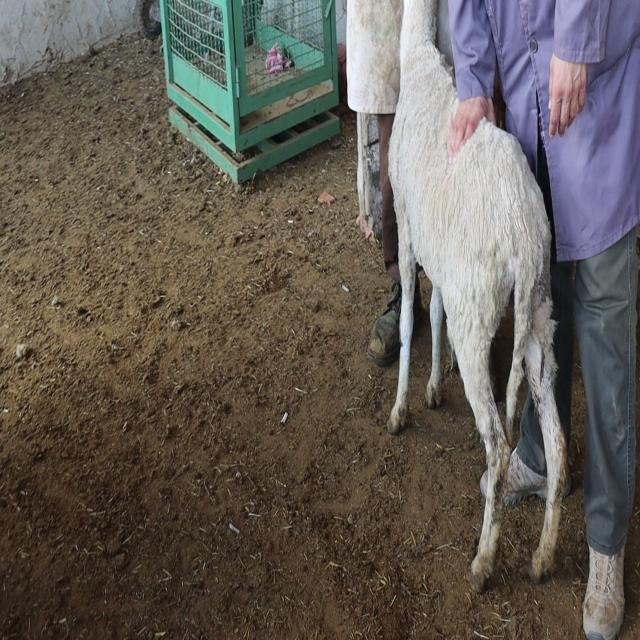Score_1: (388, 0, 566, 591)
